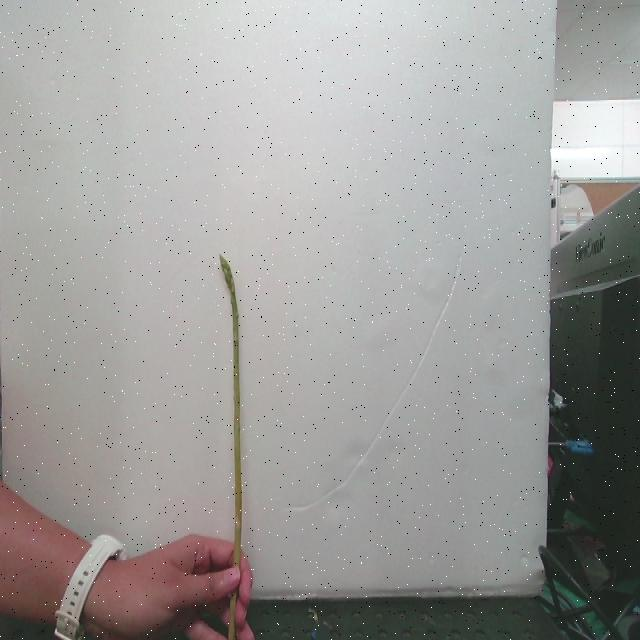aspargus: (219, 257, 246, 571)
